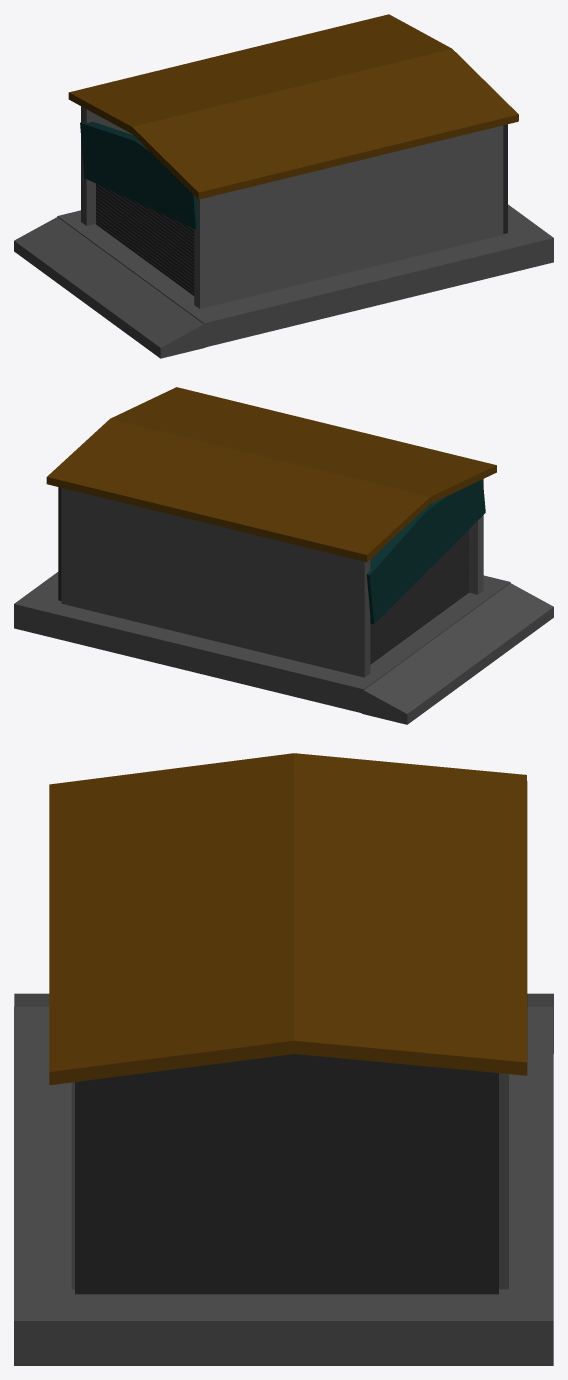
File: Toko sembako.fbx
3 renders of one model, top to bottom at view 1: azimuth 30°, elevation 25°; view 2: azimuth 150°, elevation 25°; view 3: azimuth 270°, elevation 25°, orthographic. The views are drawn at different scales.
Parts seen in each view (by area): view 1: polySurface377; view 2: polySurface377; view 3: polySurface377.
Boxes of the visible parts, x1,y1,x2,y2 form: polySurface377: [14, 14, 553, 358]; polySurface377: [14, 387, 553, 724]; polySurface377: [14, 753, 553, 1365].
Size of the model in its own units: 9.45 by 3.78 by 6.1.
